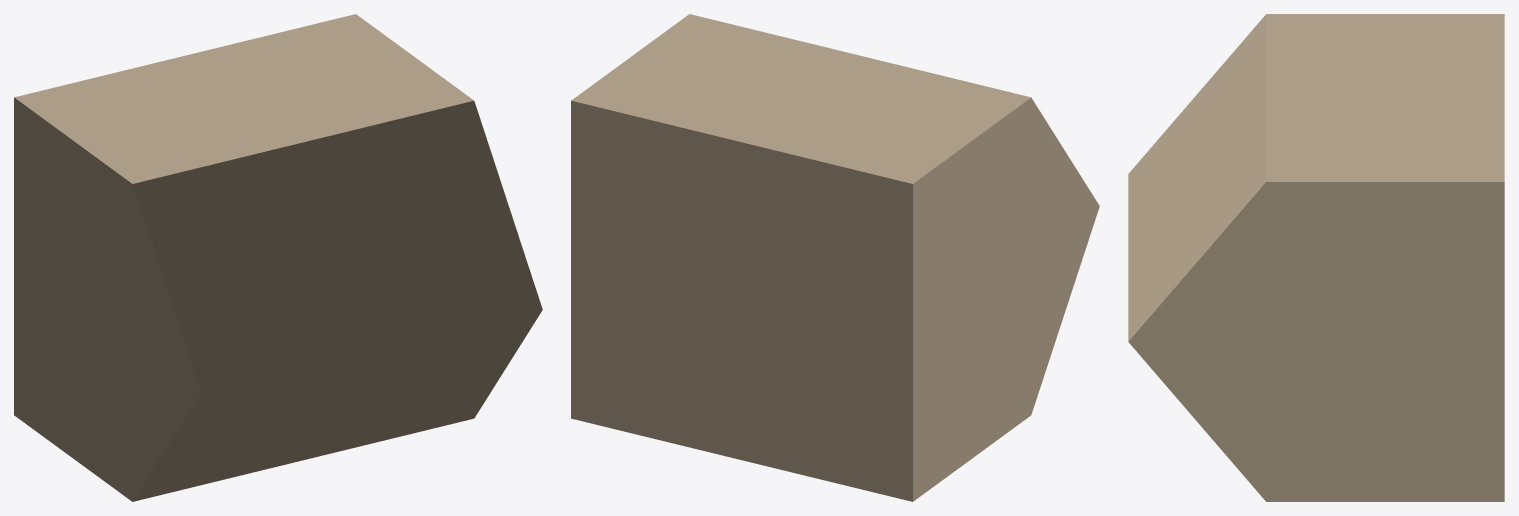
File: maison_richard.obj
The picture shows the model from 3 angles, left to right: view 1: azimuth 30°, elevation 25°; view 2: azimuth 150°, elevation 25°; view 3: azimuth 270°, elevation 25°; orthographic projection.
Bounding box in the file's own units: 9 × 8 × 8.53.
